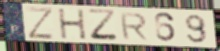6: (153, 11, 178, 44)
9: (184, 13, 209, 45)
H: (56, 8, 88, 41)
R: (119, 12, 150, 41)
Z: (87, 8, 121, 43), (24, 5, 56, 40)
